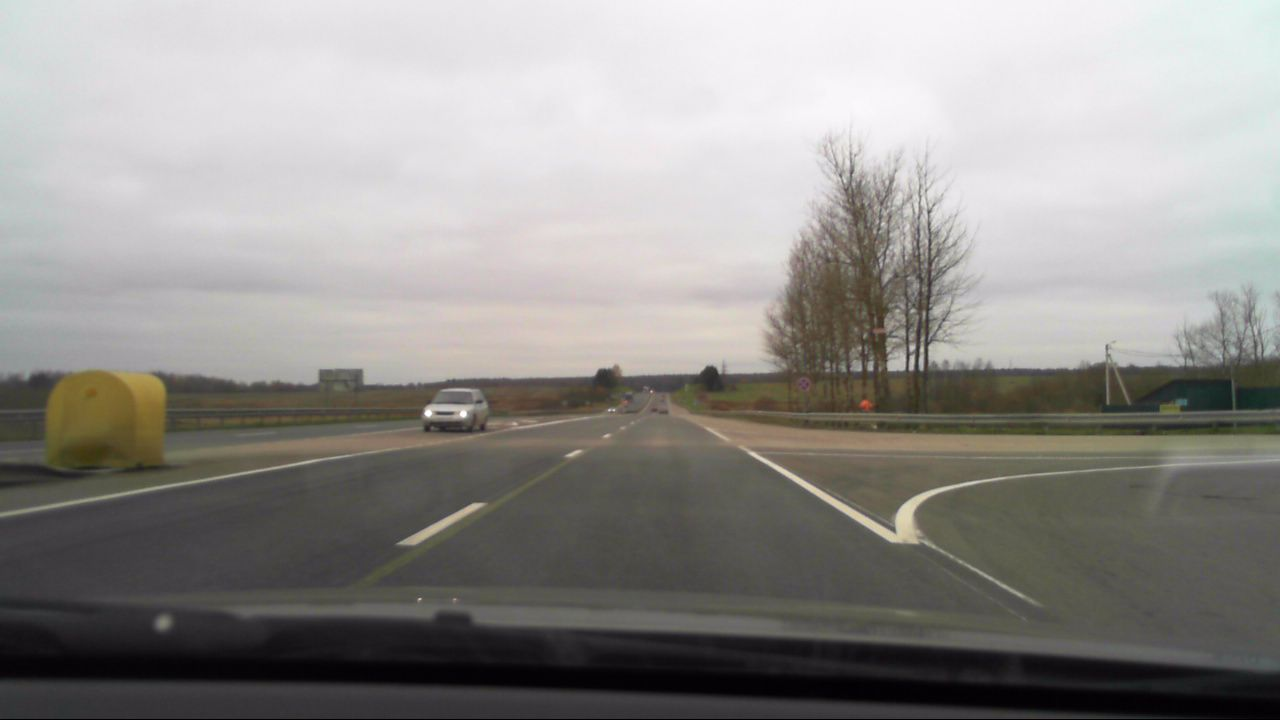No Parking: (793, 375, 813, 394)
